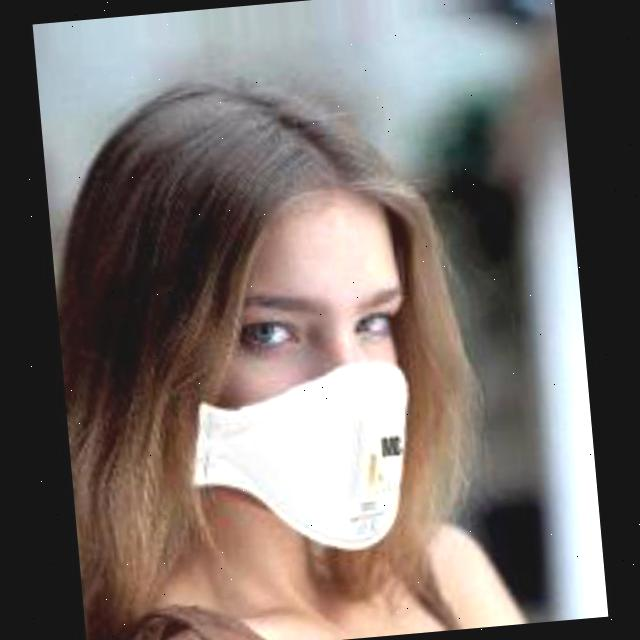suspicion: (131, 140, 433, 578)
